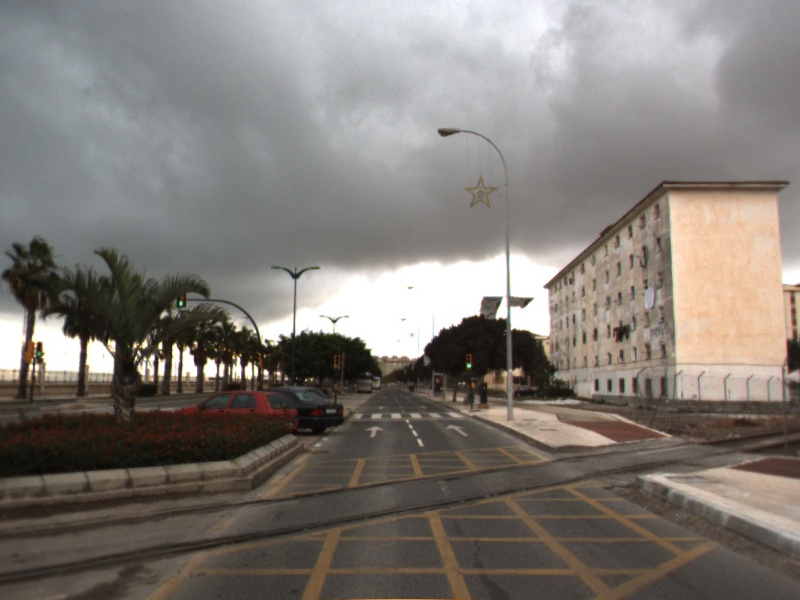STRAIGHT: (444, 422, 471, 438), (363, 423, 386, 439)
